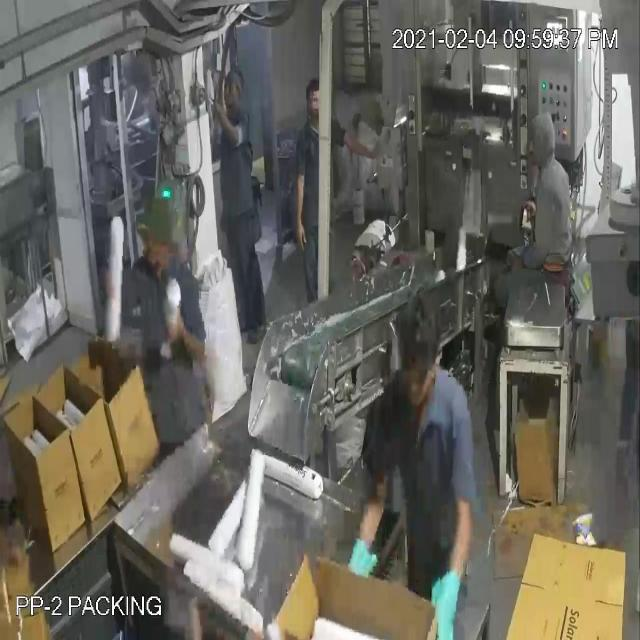No_Gloves: (19, 66, 445, 597)
